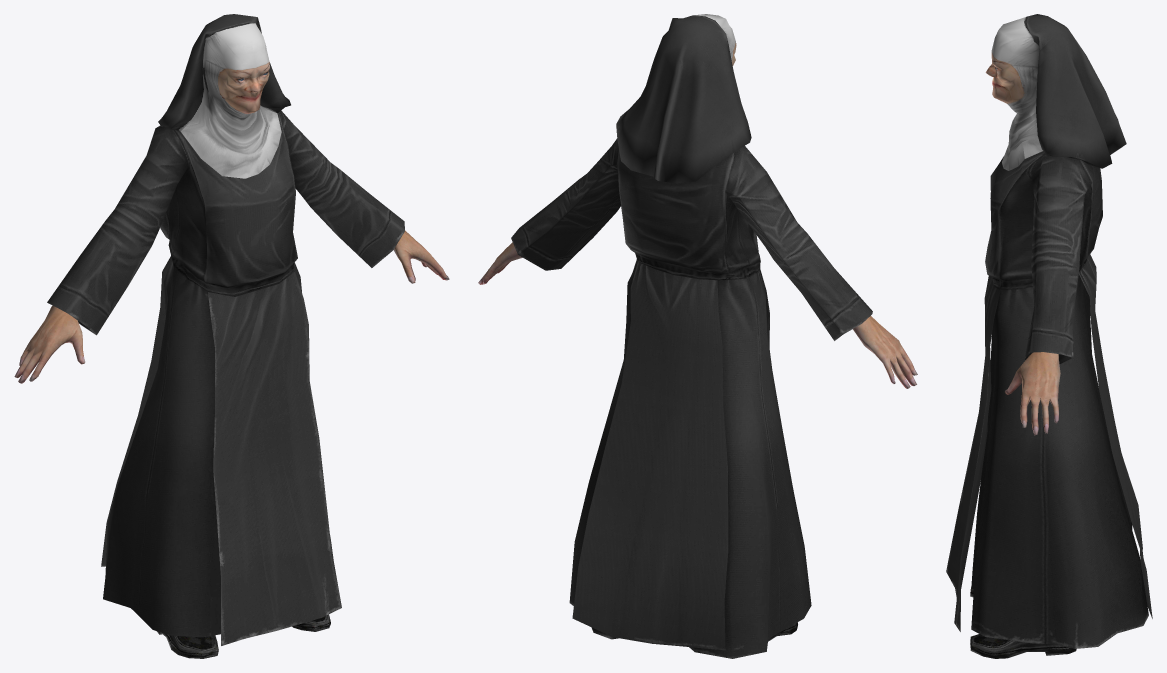
3 views of the same model, side by side, from view 1: azimuth 30°, elevation 25°; view 2: azimuth 150°, elevation 25°; view 3: azimuth 270°, elevation 25° (orthographic).
Parts seen in each view (by area): view 1: Madeline_Dentadura_Down7; view 2: Madeline_Dentadura_Down7; view 3: Madeline_Dentadura_Down7.
Part boxes in pixels (x1=…): Madeline_Dentadura_Down7: x1=14, y1=14, x2=449, y2=658; Madeline_Dentadura_Down7: x1=478, y1=14, x2=917, y2=658; Madeline_Dentadura_Down7: x1=946, y1=14, x2=1152, y2=658.
Bounding box in the file's own units: 124 × 167 × 51.75.
Materials: 1 (1 with a texture image).
